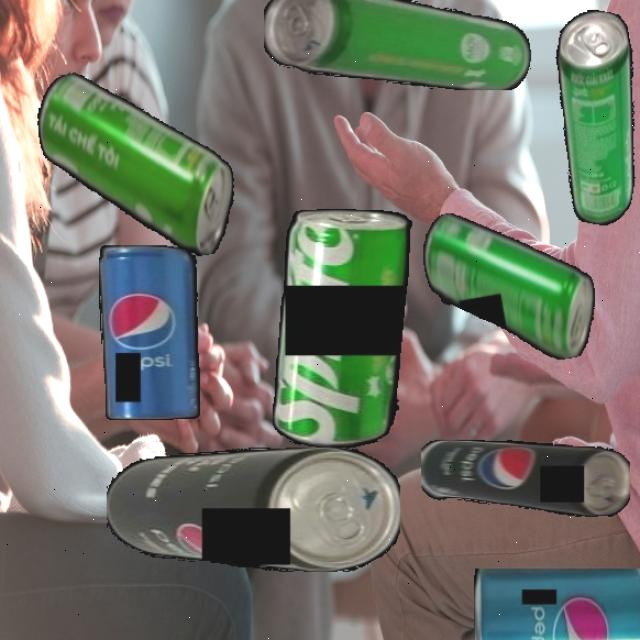debris: (30, 48, 245, 280), (272, 208, 452, 447), (106, 447, 400, 572), (417, 192, 605, 380), (529, 5, 640, 228), (264, 0, 531, 90), (99, 244, 200, 420), (420, 440, 630, 517), (473, 567, 640, 640)
